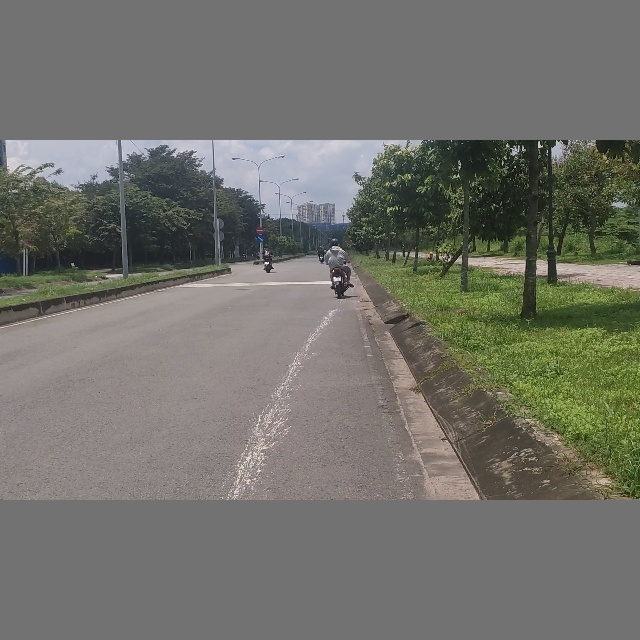P.102: (256, 227, 263, 234)
R.302a: (257, 235, 264, 242)
